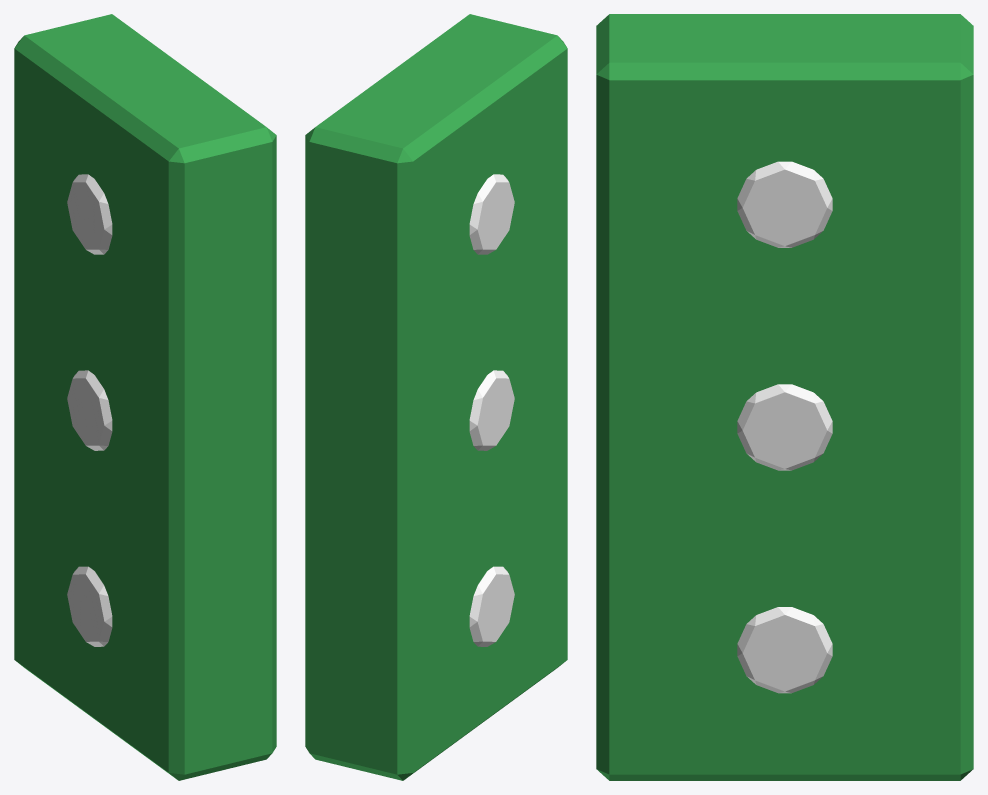
Rendered from domino_green.glb.
The picture shows the model from 3 angles, left to right: view 1: azimuth 30°, elevation 25°; view 2: azimuth 150°, elevation 25°; view 3: azimuth 270°, elevation 25°; orthographic projection. The views are drawn at different scales.
Visible parts, largest first — view 1: domino_green; view 2: domino_green; view 3: domino_green.
Boxes of the visible parts, x1=… form: domino_green: x1=14, y1=14, x2=276, y2=780; domino_green: x1=305, y1=14, x2=567, y2=780; domino_green: x1=596, y1=14, x2=973, y2=780.
Bounding box in the file's own units: 0.083 × 0.42 × 0.2.
